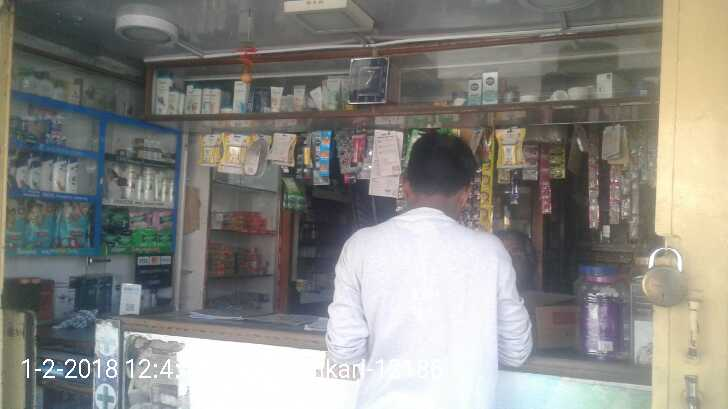beauty: (66, 157, 81, 194), (137, 137, 161, 160), (53, 152, 66, 191), (40, 154, 53, 189), (142, 169, 156, 200), (126, 165, 137, 201), (166, 175, 176, 200)
pharmacy: (103, 226, 132, 250), (130, 207, 152, 234), (155, 229, 174, 252), (155, 208, 174, 230), (47, 116, 66, 137), (135, 229, 155, 248)
